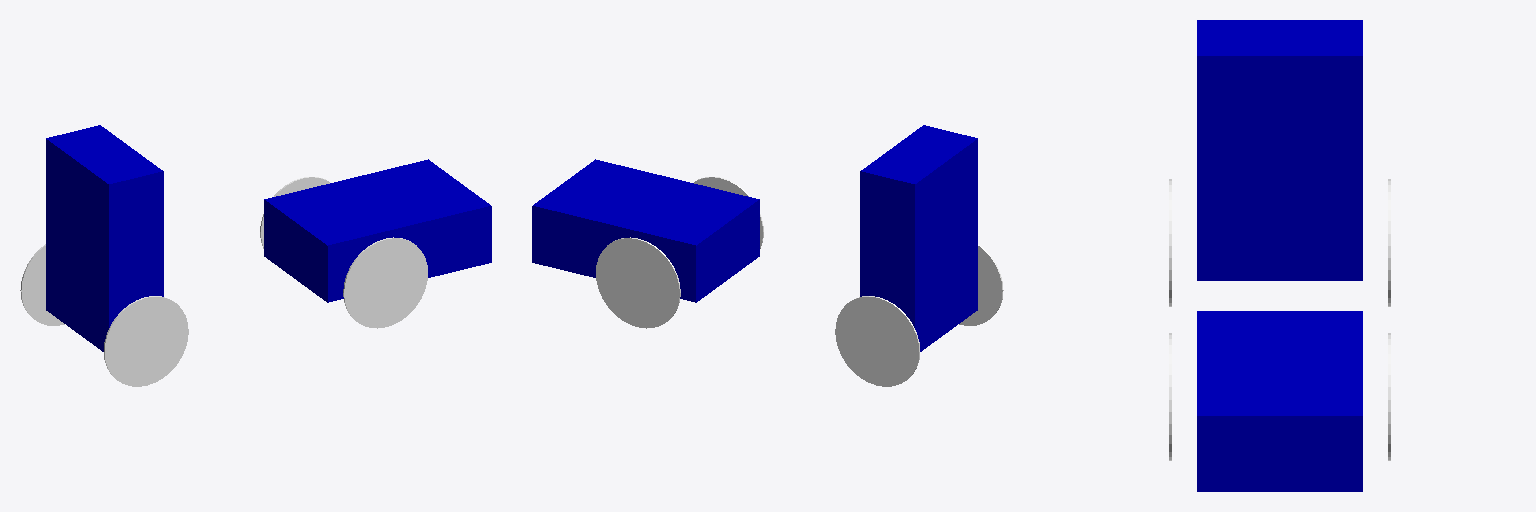
robot.urdf — glide:
<?xml version="1.0" ?>
<!-- =================================================================================== -->
<!-- |    This document was autogenerated by xacro from sim_glide_description.urdf.xacro | -->
<!-- |    EDITING THIS FILE BY HAND IS NOT RECOMMENDED                                 | -->
<!-- =================================================================================== -->
<robot name="glide">
  <material name="blue">
    <color rgba="0 0 0.8 1"/>
  </material>
  <material name="white">
    <color rgba="1 1 1 1"/>
  </material>
  <!-- 4" ~= 0.1 m -->
  <!-- 1 5" ~= 0.0381 m -->
  <!-- 1 1/4" ~= 0.03175 m -->
  <!-- <link name="steer_bar_link">
      <visual>
        <geometry>
          <cylinder length="0.4" radius="${bar_radius}"/>
        </geometry>
        <origin rpy="${degrees_45} -${degrees_45} -${degrees_55}" xyz="0 0 0"/>
        <material name="white"/>
      </visual>
      <collision> 
        <origin rpy="${degrees_45} 0 0" xyz="0 0 0"/>
        <geometry> 
          <cylinder length="0.4" radius="${bar_radius}"/>
        </geometry> 
      </collision>
  </link>
  <joint name="steer_bar_joint" type="revolute">
    <limit lower="-0.2" upper="0.2" effort="100" velocity="0.1"/>
      <origin rpy="0 0 0" xyz="-${1.8*body_width} 0 ${body_length/1.1}"/>
      <parent link="base_link"/>
      <child link="steer_bar_link"/>
      <axis xyz="0 1 0"/>
    </joint> -->
  <link name="base_link">
    <visual>
      <geometry>
        <box size="0.3 0.2 0.1"/>
      </geometry>
      <origin rpy="0 0 0" xyz="0 0 0.1"/>
      <material name="blue"/>
    </visual>
  </link>
  <gazebo reference="base_link">
    <material>Gazebo/Blue</material>
  </gazebo>
  <link name="front_right_wheel">
    <visual>
      <geometry>
        <cylinder length="0.003" radius="0.077"/>
      </geometry>
      <origin rpy="0 0 0" xyz="0 0 0"/>
      <material name="white"/>
    </visual>
    <collision>
      <origin rpy="0 0 0" xyz="0 0 0"/>
      <geometry>
        <cylinder length="0.003" radius="0.077"/>
      </geometry>
    </collision>
    <inertial>
      <origin rpy="0 0 0" xyz="0 0 0"/>
      <mass value="5.0"/>
      <!--<cylinder_inertia m="0.2" r="0.3" h="0.1"/> -->
      <!-- <cylinder_inirtia m="${mass}" r="${radius}" h="${width}" /> -->
      <inertia ixx="7.90866056" ixy="0.00000006" ixz="0" iyy="7.90866056" iyz="0" izz="2.48398783"/>
    </inertial>
  </link>
  <gazebo reference="$front_{name}_wheel">
    <material>Gazebo/White</material>
  </gazebo>
  <joint name="front_right_wheel_joint" type="revolute">
    <limit effort="100" lower="-0.9" upper="0.9" velocity="1"/>
    <origin rpy="1.5707963267948966 0 3.141592653589793" xyz="-0.061900000000000004 -0.13175 0.077"/>
    <parent link="base_link"/>
    <child link="front_right_wheel"/>
    <axis xyz="0 1 0"/>
    <axis2 xyz="0 0 1"/>
  </joint>
  <link name="front_left_wheel">
    <visual>
      <geometry>
        <cylinder length="0.003" radius="0.077"/>
      </geometry>
      <origin rpy="0 0 0" xyz="0 0 0"/>
      <material name="white"/>
    </visual>
    <collision>
      <origin rpy="0 0 0" xyz="0 0 0"/>
      <geometry>
        <cylinder length="0.003" radius="0.077"/>
      </geometry>
    </collision>
    <inertial>
      <origin rpy="0 0 0" xyz="0 0 0"/>
      <mass value="5.0"/>
      <!--<cylinder_inertia m="0.2" r="0.3" h="0.1"/> -->
      <!-- <cylinder_inirtia m="${mass}" r="${radius}" h="${width}" /> -->
      <inertia ixx="7.90866056" ixy="0.00000006" ixz="0" iyy="7.90866056" iyz="0" izz="2.48398783"/>
    </inertial>
  </link>
  <gazebo reference="$front_{name}_wheel">
    <material>Gazebo/White</material>
  </gazebo>
  <joint name="front_left_wheel_joint" type="revolute">
    <limit effort="100" lower="-0.9" upper="0.9" velocity="1"/>
    <origin rpy="1.5707963267948966 0 3.141592653589793" xyz="-0.061900000000000004 0.13175 0.077"/>
    <parent link="base_link"/>
    <child link="front_left_wheel"/>
    <axis xyz="0 1 0"/>
    <axis2 xyz="0 0 1"/>
  </joint>
  <link name="rear_right_wheel">
    <visual>
      <geometry>
        <cylinder length="0.003" radius="0.077"/>
      </geometry>
      <origin rpy="0 0 0" xyz="0 0 0"/>
      <material name="white"/>
    </visual>
    <collision>
      <origin rpy="0 0 0" xyz="0 0 0"/>
      <geometry>
        <cylinder length="0.003" radius="0.077"/>
      </geometry>
    </collision>
    <inertial>
      <origin rpy="0 0 0" xyz="0 0 0"/>
      <mass value="5.0"/>
      <!--<cylinder_inertia m="0.2" r="0.3" h="0.1"/> -->
      <!-- <cylinder_inirtia m="${mass}" r="${radius}" h="${width}" /> -->
      <inertia ixx="7.90866056" ixy="0.00000006" ixz="0" iyy="7.90866056" iyz="0" izz="2.48398783"/>
    </inertial>
  </link>
  <joint name="rear_right_wheel_joint" type="continuous">
    <origin rpy="1.5707963267948966 0 3.141592653589793" xyz="-0.5 -0.13175 0.077"/>
    <parent link="base_link"/>
    <child link="rear_right_wheel"/>
    <axis xyz="0 0 1"/>
  </joint>
  <link name="rear_left_wheel">
    <visual>
      <geometry>
        <cylinder length="0.003" radius="0.077"/>
      </geometry>
      <origin rpy="0 0 0" xyz="0 0 0"/>
      <material name="white"/>
    </visual>
    <collision>
      <origin rpy="0 0 0" xyz="0 0 0"/>
      <geometry>
        <cylinder length="0.003" radius="0.077"/>
      </geometry>
    </collision>
    <inertial>
      <origin rpy="0 0 0" xyz="0 0 0"/>
      <mass value="5.0"/>
      <!--<cylinder_inertia m="0.2" r="0.3" h="0.1"/> -->
      <!-- <cylinder_inirtia m="${mass}" r="${radius}" h="${width}" /> -->
      <inertia ixx="7.90866056" ixy="0.00000006" ixz="0" iyy="7.90866056" iyz="0" izz="2.48398783"/>
    </inertial>
  </link>
  <joint name="rear_left_wheel_joint" type="continuous">
    <origin rpy="1.5707963267948966 0 3.141592653589793" xyz="-0.5 0.13175 0.077"/>
    <parent link="base_link"/>
    <child link="rear_left_wheel"/>
    <axis xyz="0 0 1"/>
  </joint>
  <link name="camera_bottom_screw_frame">
    <visual>
      <geometry>
        <box size="0.02505 0.090 0.025"/>
      </geometry>
    </visual>
    <collision>
      <geometry>
        <box size="0.02505 0.090 0.025"/>
      </geometry>
    </collision>
  </link>
  <link name="camera_link"/>
  <link name="camera_depth_frame"/>
  <link name="camera_depth_optical_frame"/>
  <link name="camera_color_frame"/>
  <link name="camera_color_optical_frame"/>
  <link name="camera_left_ir_frame"/>
  <link name="camera_left_ir_optical_frame"/>
  <link name="camera_right_ir_frame"/>
  <link name="camera_right_ir_optical_frame"/>
  <joint name="camera_joint" type="fixed">
    <parent link="base_link"/>
    <child link="camera_bottom_screw_frame"/>
    <pose rpy="0 0 0" xyz="0.4 0 0.25"/>
  </joint>
  <joint name="camera_link_joint" type="fixed">
    <parent link="camera_bottom_screw_frame"/>
    <child link="camera_link"/>
    <pose rpy="0 0 0" xyz="0 0.0175 0.0125 "/>
  </joint>
  <joint name="camera_depth_joint" type="fixed">
    <parent link="camera_link"/>
    <child link="camera_depth_frame"/>
    <pose rpy="0 0 0" xyz="0 0 0"/>
  </joint>
  <joint name="camera_depth_optical_joint" type="fixed">
    <parent link="camera_depth_frame"/>
    <child link="camera_depth_optical_frame"/>
    <pose rpy="-1.57 0 -1.57" xyz="0 0 0 "/>
  </joint>
  <joint name="camera_color_joint" type="fixed">
    <parent link="camera_depth_frame"/>
    <child link="camera_color_frame"/>
    <pose rpy="0 0 0" xyz="0 0 0"/>
  </joint>
  <joint name="camera_color_optical_joint" type="fixed">
    <parent link="camera_color_frame"/>
    <child link="camera_color_optical_frame"/>
    <pose rpy="-1.57 0 -1.57" xyz="0 0 0 "/>
  </joint>
  <joint name="camera_left_ir_joint" type="fixed">
    <parent link="camera_depth_frame"/>
    <child link="camera_left_ir_frame"/>
    <pose rpy="0 0 0 " xyz="0 0 0 "/>
  </joint>
  <joint name="camera_left_ir_optical_joint" type="fixed">
    <parent link="camera_left_ir_frame"/>
    <child link="camera_left_ir_optical_frame"/>
    <pose rpy="-1.57 0 -1.57" xyz="0 0 0 "/>
  </joint>
  <joint name="camera_right_ir_joint" type="fixed">
    <parent link="camera_depth_frame"/>
    <child link="camera_right_ir_frame"/>
    <pose rpy="0 0 0" xyz="0 -0.050 0 "/>
  </joint>
  <joint name="camera_right_ir_optical_joint" type="fixed">
    <parent link="camera_right_ir_frame"/>
    <child link="camera_right_ir_optical_frame"/>
    <pose rpy="-1.57 0 -1.57" xyz="0 0 0 "/>
  </joint>
  <link name="human_link">
    <visual>
      <geometry>
        <box size="0.3 0.2 0.1"/>
      </geometry>
      <material name="blue"/>
    </visual>
  </link>
  <joint name="base_to_human" type="fixed">
    <origin rpy="0 1.5707963267948966 0" xyz="-0.5 0.0 0.2"/>
    <parent link="base_link"/>
    <child link="human_link"/>
  </joint>
</robot>

--- Render facts (derived) ---
The picture shows the robot from 3 angles, left to right: view 1: azimuth 30°, elevation 25°; view 2: azimuth 150°, elevation 25°; view 3: azimuth 270°, elevation 25°; orthographic projection.
Robot: glide — 16 links, 15 joints (2 revolute, 2 continuous, 11 fixed); root link base_link; default pose: all joints at 0.
Visible links, largest first — view 1: human_link, base_link, rear_right_wheel, front_right_wheel, rear_left_wheel, front_left_wheel; view 2: human_link, base_link, rear_left_wheel, front_left_wheel, rear_right_wheel, front_right_wheel; view 3: human_link, base_link.
Boxes of the visible links, bbox=[...] form: human_link: bbox=[46, 125, 163, 351]; base_link: bbox=[264, 159, 491, 302]; rear_right_wheel: bbox=[104, 296, 188, 386]; front_right_wheel: bbox=[343, 237, 427, 328]; rear_left_wheel: bbox=[20, 244, 64, 325]; front_left_wheel: bbox=[260, 177, 329, 248]; human_link: bbox=[860, 125, 977, 351]; base_link: bbox=[532, 159, 759, 302]; rear_left_wheel: bbox=[835, 296, 919, 386]; front_left_wheel: bbox=[596, 237, 680, 328]; rear_right_wheel: bbox=[959, 244, 1003, 325]; front_right_wheel: bbox=[694, 177, 763, 248]; human_link: bbox=[1197, 20, 1362, 280]; base_link: bbox=[1197, 311, 1362, 491].
Bounding box of the posed robot: 0.727 × 0.2665 × 0.3625 m (x, y, z).
Geometry: primitives only (box / cylinder / sphere), no mesh files.
